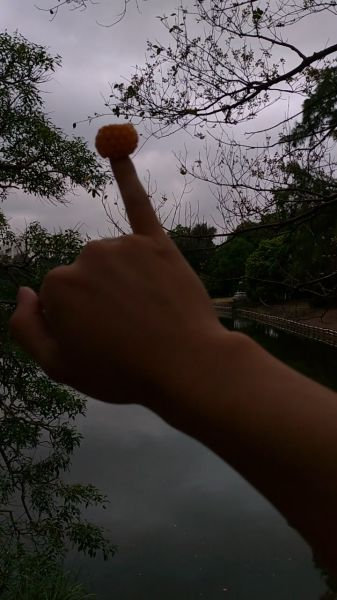eggs: (92, 124, 138, 158)
